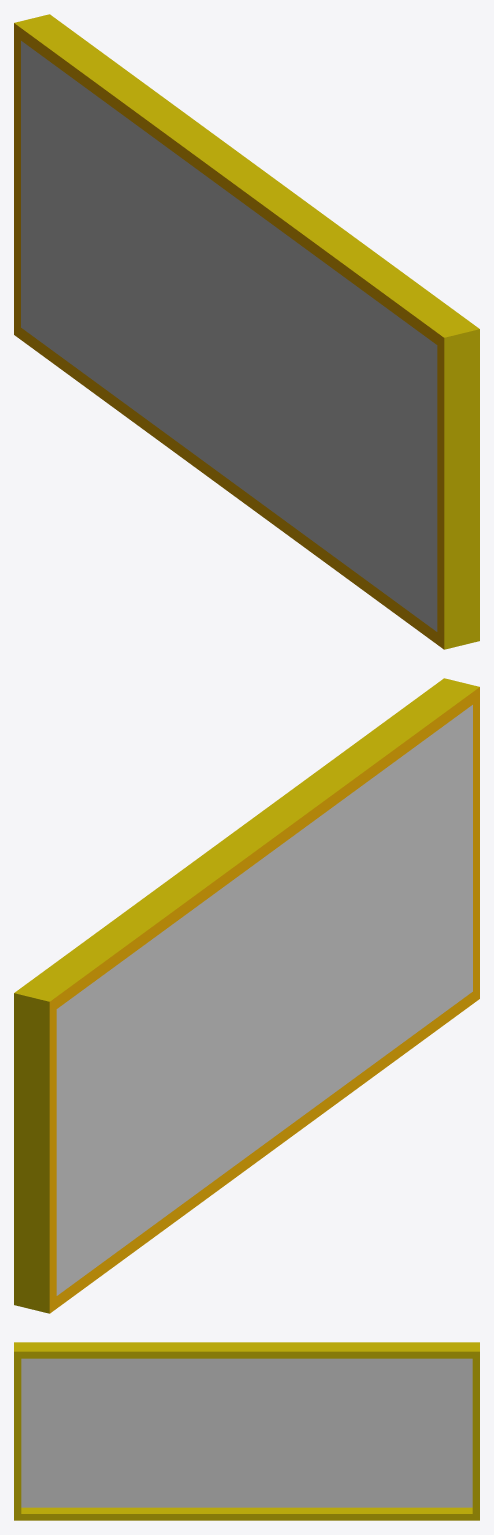
The model's file is window_5x2.dae.
The picture shows the model from 3 angles, top to bottom: view 1: azimuth 30°, elevation 25°; view 2: azimuth 150°, elevation 25°; view 3: azimuth 270°, elevation 25°; orthographic projection. The views are drawn at different scales.
Visible parts, largest first — view 1: Cube; view 2: Cube; view 3: Cube.
Part boxes in pixels (x1,y1,x2,y2): Cube: (14,14,479,649); Cube: (14,678,479,1313); Cube: (14,1342,479,1520).
Bounding box in the file's own units: 0.06 × 1.25 × 0.5.
